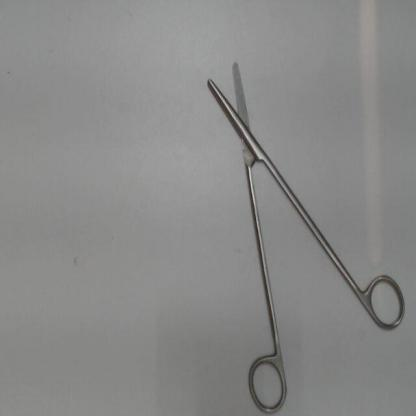9 Metzenbaum Scissors: (201, 57, 411, 415)
